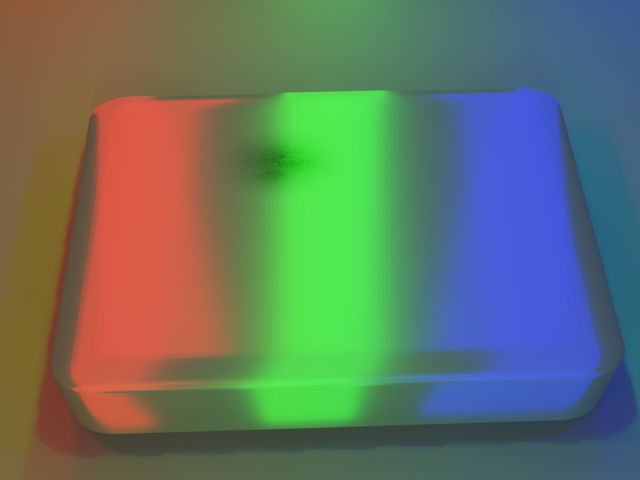stain: (189, 105, 378, 204)
